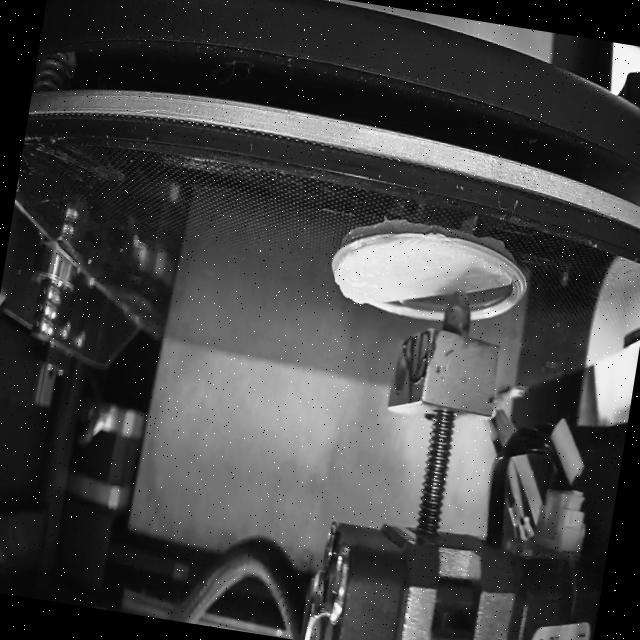over_extrusion: (327, 234, 374, 312)
